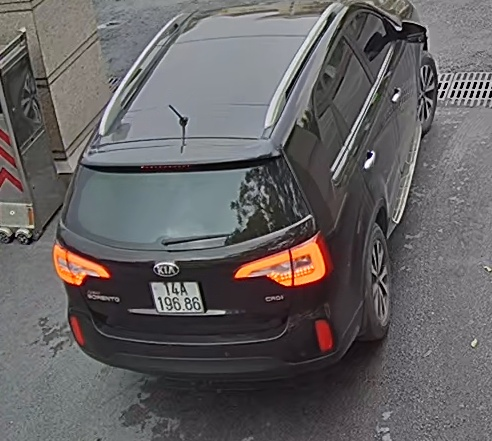vehicle plate: (142, 276, 207, 318)
